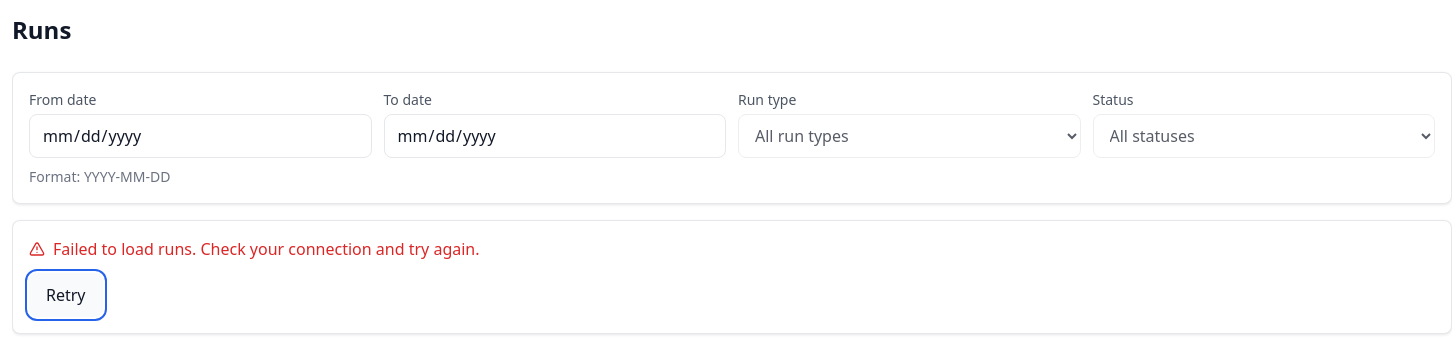
Test case: RunsView › recovers to the empty state only when a retry succeeds with an empty list
Step 1. Click the button "Retry" → (66, 295), box [29, 273, 102, 317]
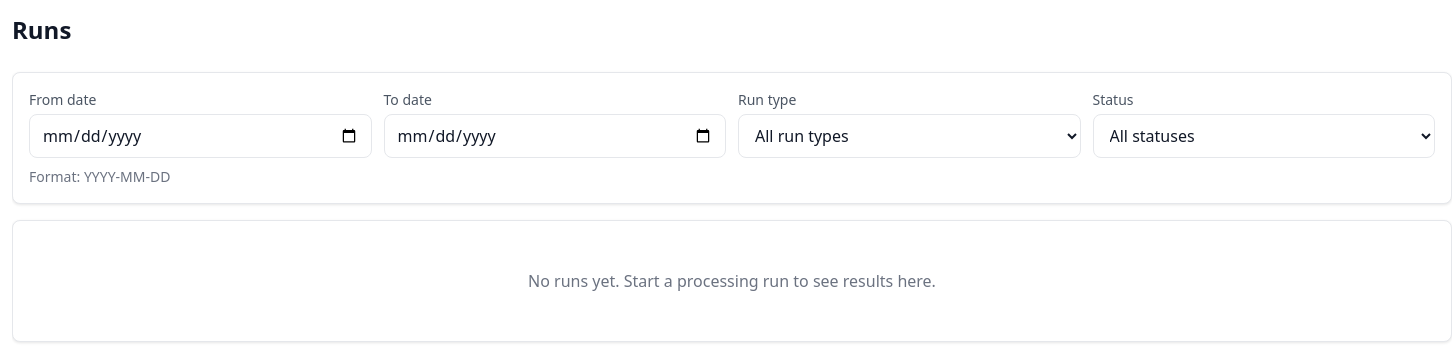
expect the text "No runs yet. Start a processing run to see results here." is shown: met, box [12, 220, 1451, 342]
expect the message "Failed to load runs. Check your connection and try again. Retry" is gone: met
